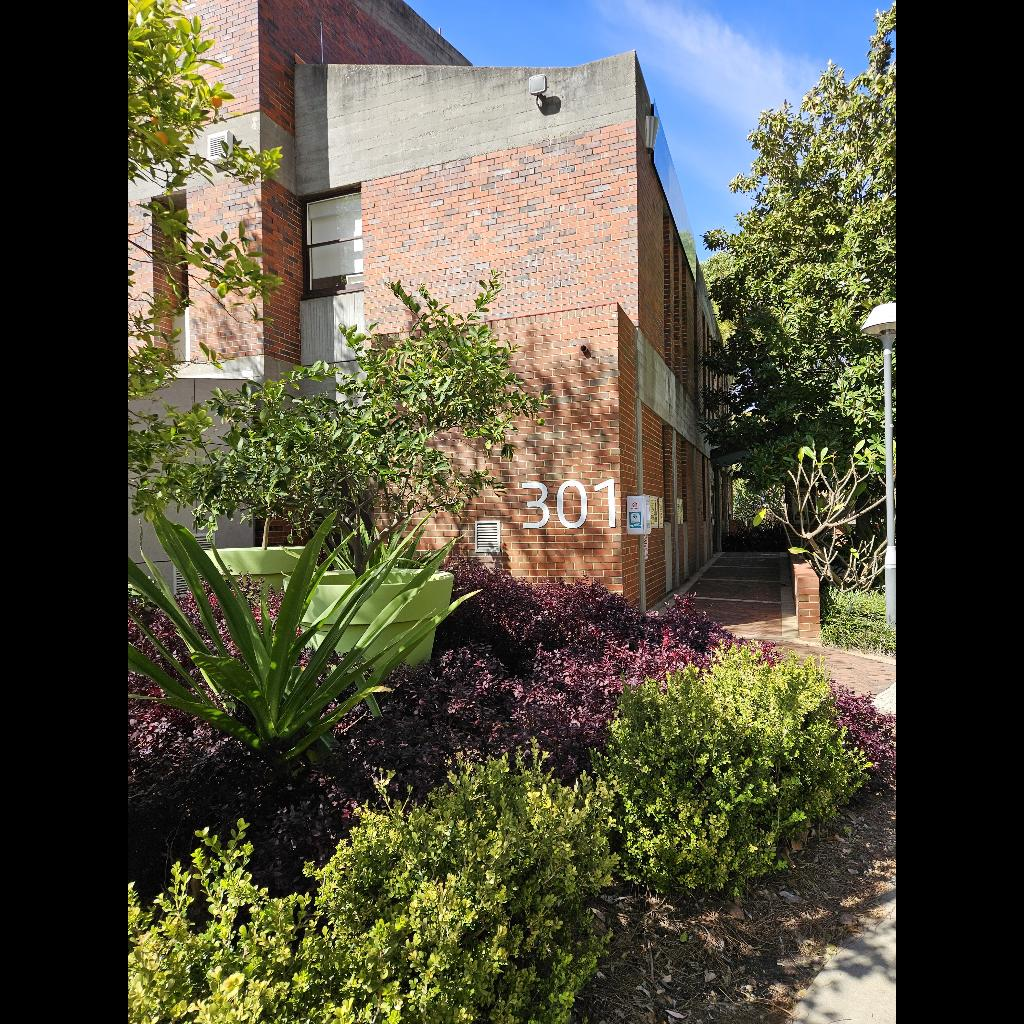BuildingCodes: (521, 479, 615, 529)
